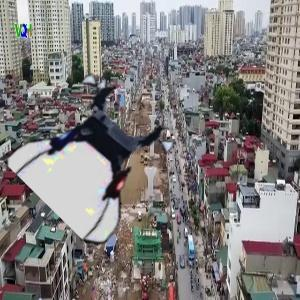drone: (26, 82, 170, 226)
